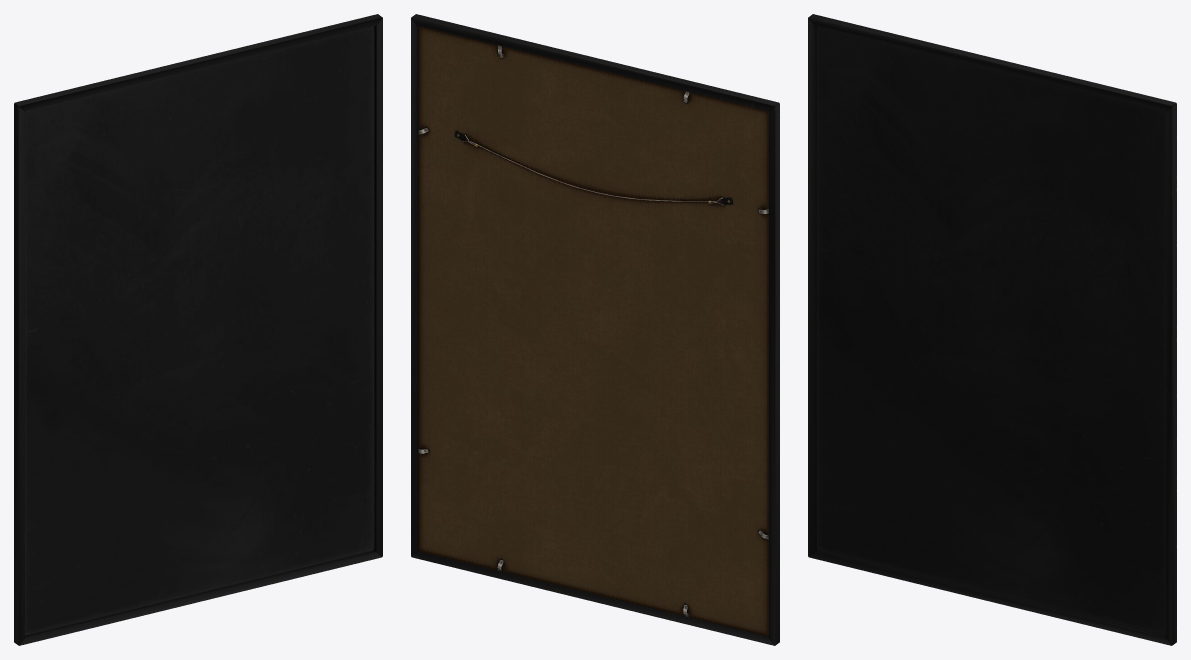
The model's file is hanging_picture_frame_01.glb.
3 renders of one model, left to right at view 1: azimuth 30°, elevation 25°; view 2: azimuth 150°, elevation 25°; view 3: azimuth 330°, elevation 25°, orthographic.
Parts seen in each view (by area): view 1: hanging_picture_frame_01; view 2: hanging_picture_frame_01; view 3: hanging_picture_frame_01.
Boxes of the visible parts, bbox=[...] form: hanging_picture_frame_01: bbox=[14, 14, 382, 645]; hanging_picture_frame_01: bbox=[411, 14, 779, 645]; hanging_picture_frame_01: bbox=[808, 14, 1176, 645].
Bounding box in the file's own units: 0.5936 × 0.8406 × 0.0152.
Materials: 3 (3 with a texture image).
